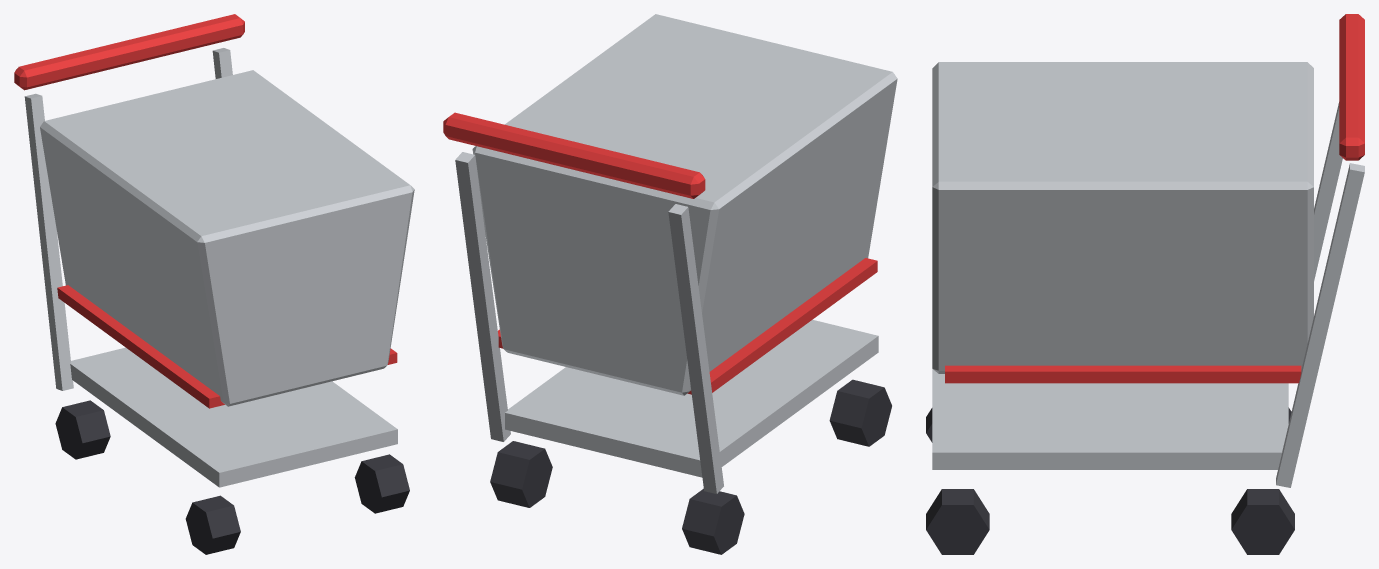
The model's file is ShoppingCart.fbx.
3 renders of one model, left to right at view 1: azimuth 30°, elevation 25°; view 2: azimuth 150°, elevation 25°; view 3: azimuth 270°, elevation 25°, orthographic. The views are drawn at different scales.
Visible parts, largest first — view 1: ShoppingCart; view 2: ShoppingCart; view 3: ShoppingCart.
Boxes of the visible parts, box(x1,y1,x2,y2) form: ShoppingCart: box(14, 14, 414, 554); ShoppingCart: box(443, 14, 897, 554); ShoppingCart: box(926, 14, 1364, 554).
Bounding box in the file's own units: 2.4 × 3.67 × 3.45.
Materials: 1 (1 with a texture image).
